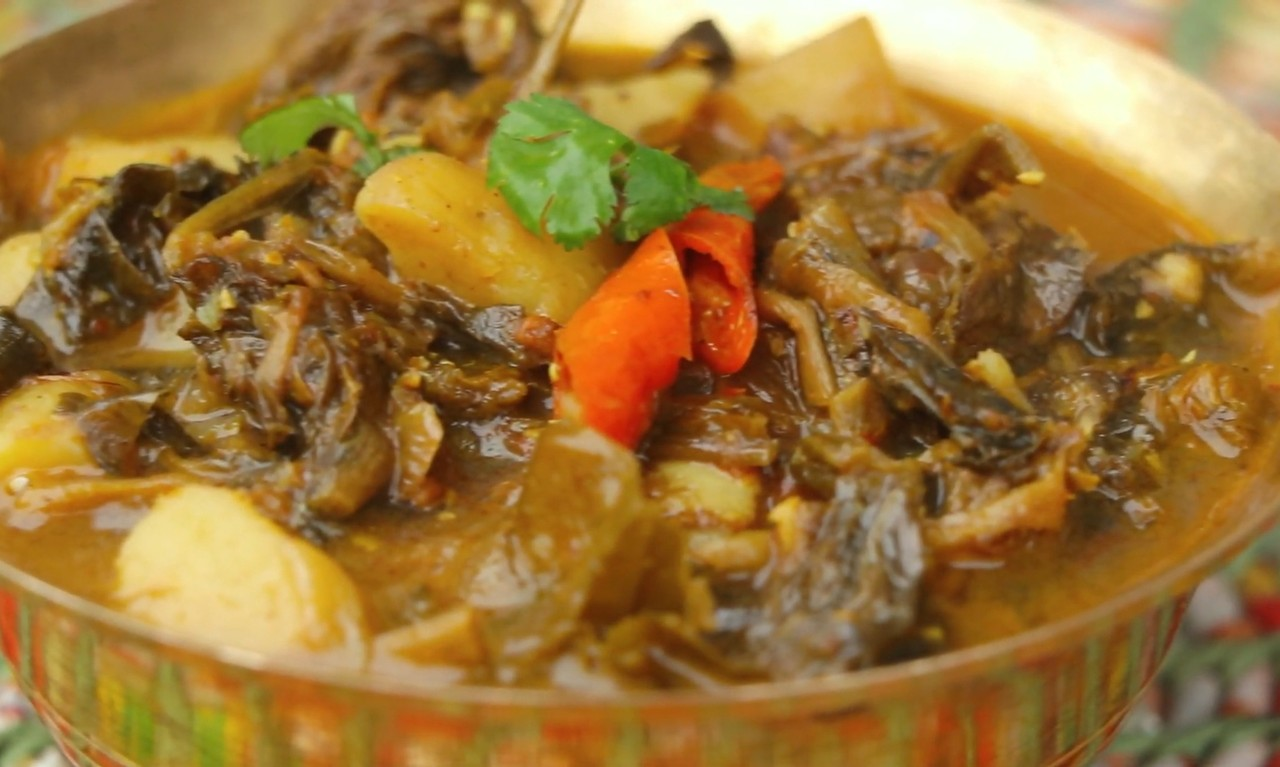gundruk: (35, 43, 1217, 618)
